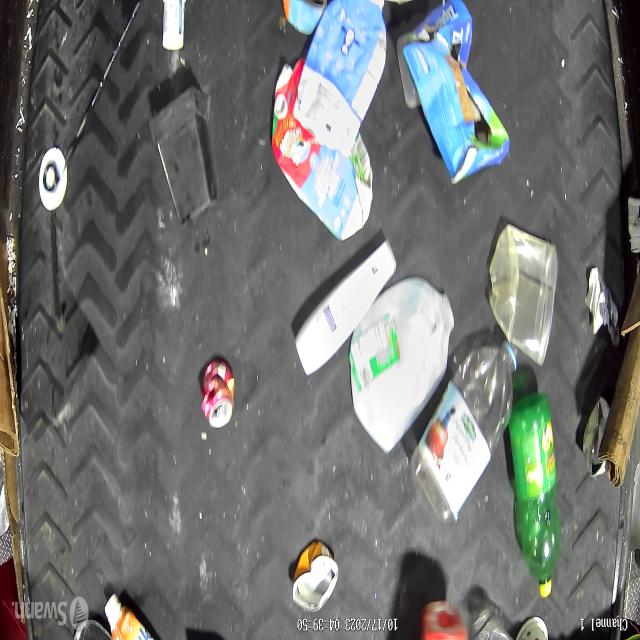can: (198, 355, 234, 431)
milk_jug: (347, 276, 453, 455)
non_white_jug: (272, 61, 374, 241), (299, 2, 387, 156)
plastic_bottle: (409, 339, 519, 526), (505, 390, 560, 600)
